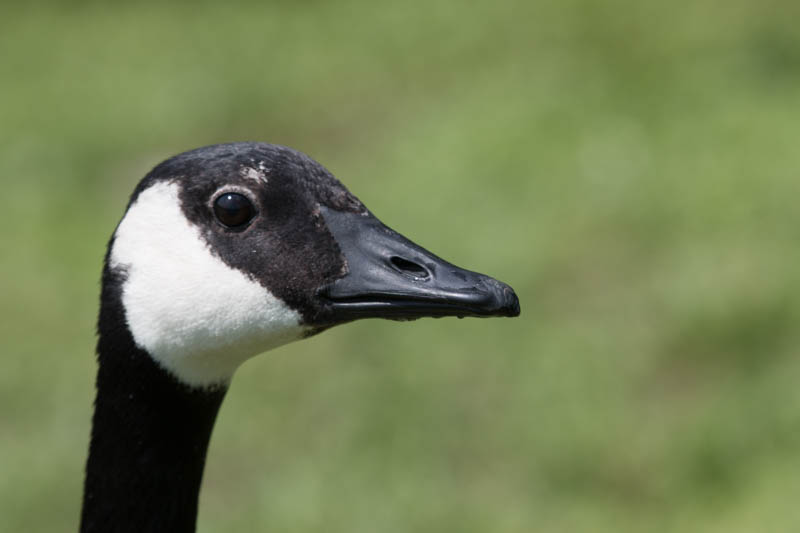goose-head: (96, 140, 521, 388)
